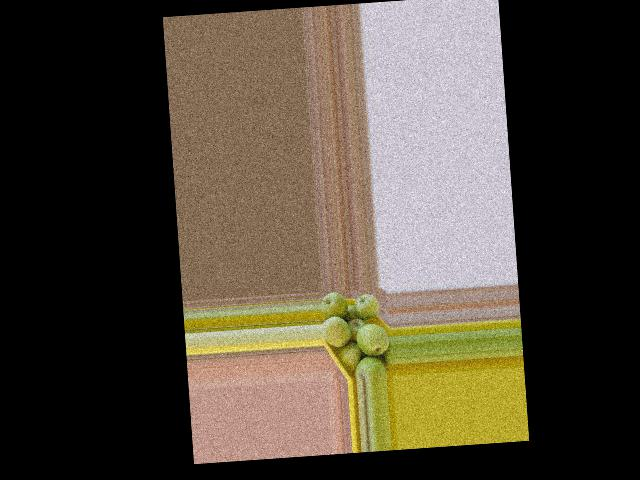apple: (333, 342, 364, 373)
